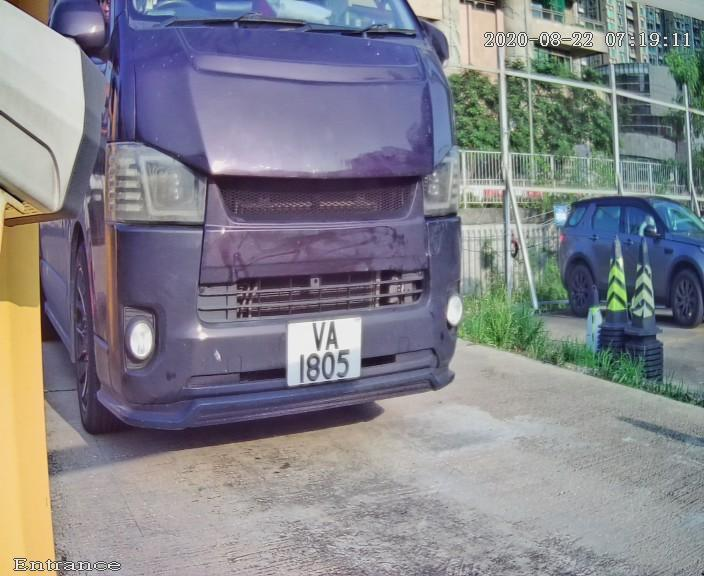License Plate: (268, 302, 372, 398)
